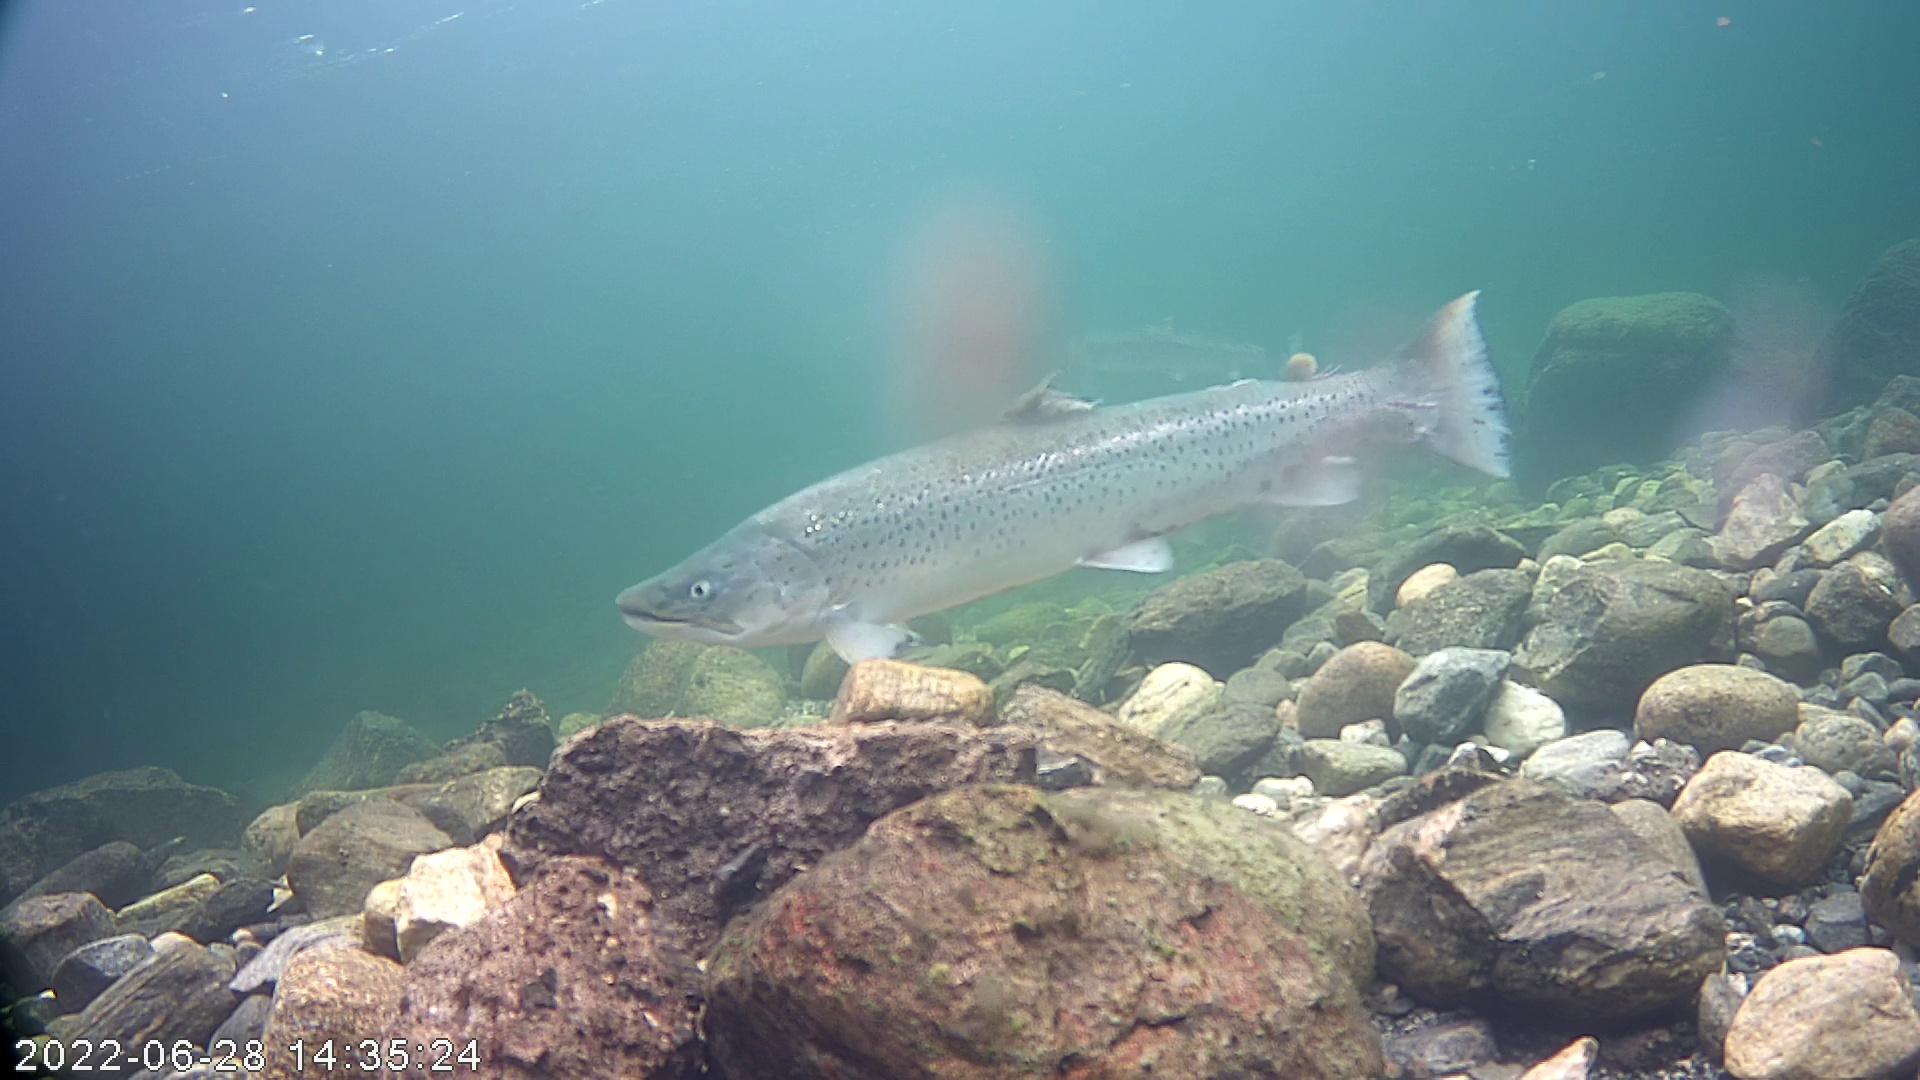salmon: (636, 236, 1542, 669)
